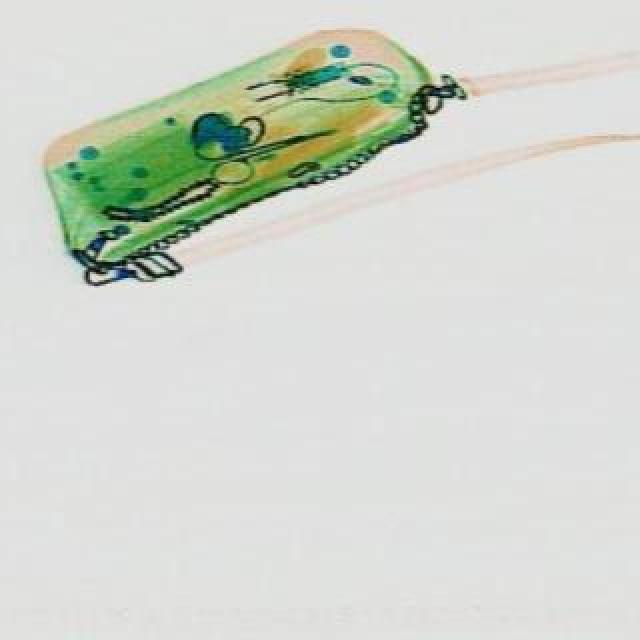pliers: (198, 108, 348, 198)
